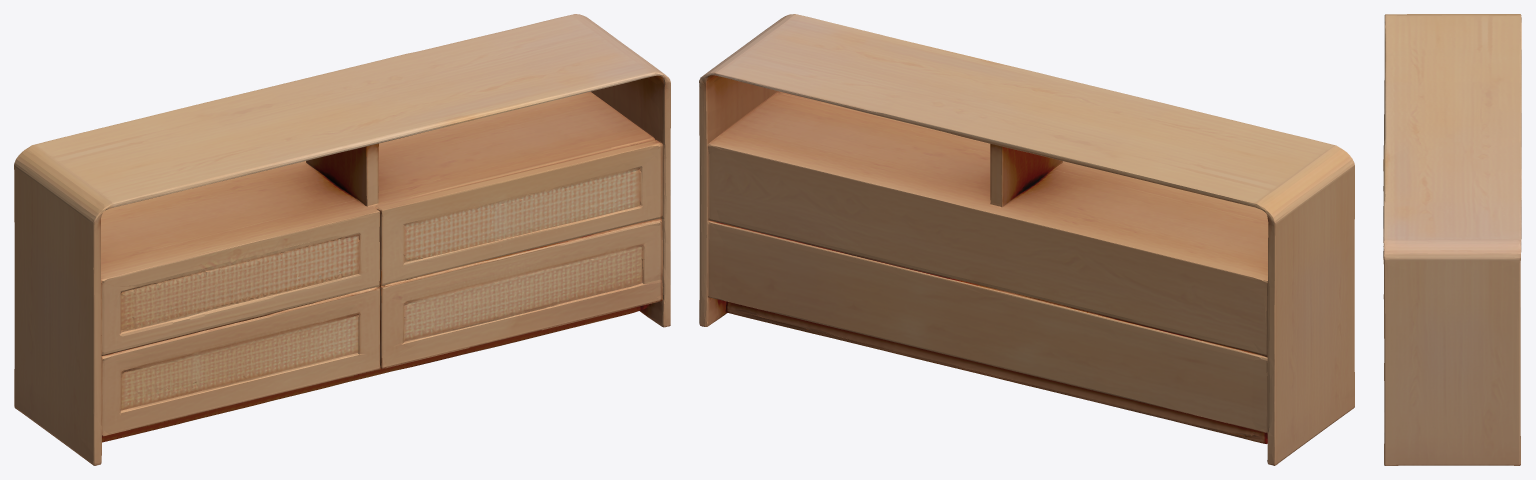
The model's file is CAJONERA BEJUCO.glb.
The picture shows the model from 3 angles, left to right: view 1: azimuth 30°, elevation 25°; view 2: azimuth 150°, elevation 25°; view 3: azimuth 270°, elevation 25°; orthographic projection. The views are drawn at different scales.
Parts seen in each view (by area): view 1: world; view 2: world; view 3: world.
Part boxes in pixels (x1,y1,x2,y2): world: (14,14,670,465); world: (699,14,1354,465); world: (1383,14,1521,465).
Bounding box in the file's own units: 1 × 0.429 × 0.2447.
Materials: 1 (1 with a texture image).
